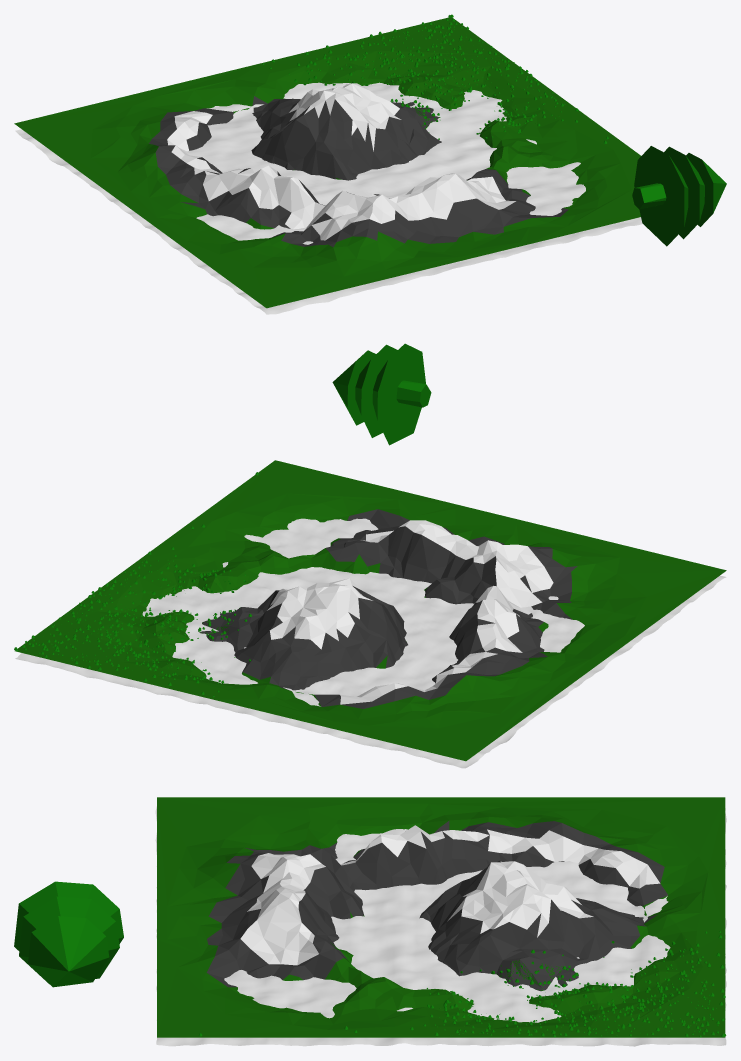
The model's file is world.fbx.
3 views of the same model, one above another, from view 1: azimuth 30°, elevation 25°; view 2: azimuth 150°, elevation 25°; view 3: azimuth 270°, elevation 25° (orthographic). The views are drawn at different scales.
Visible parts, largest first — view 1: Landscape.005, Landscape_plane.003, Cylinder; view 2: Landscape.005, Landscape_plane.003, Cylinder; view 3: Landscape.005, Landscape_plane.003, Cylinder.
Part boxes in pixels (x1,y1,x2,y2): Landscape.005: (14,17,640,308); Landscape_plane.003: (15,82,642,314); Cylinder: (632,146,726,246); Landscape.005: (15,460,726,761); Landscape_plane.003: (15,518,726,768); Cylinder: (332,343,431,445); Landscape.005: (157,797,725,1037); Landscape_plane.003: (155,806,726,1046); Cylinder: (14,881,123,987).
Bounding box in the file's own units: 201 × 53.49 × 251.
